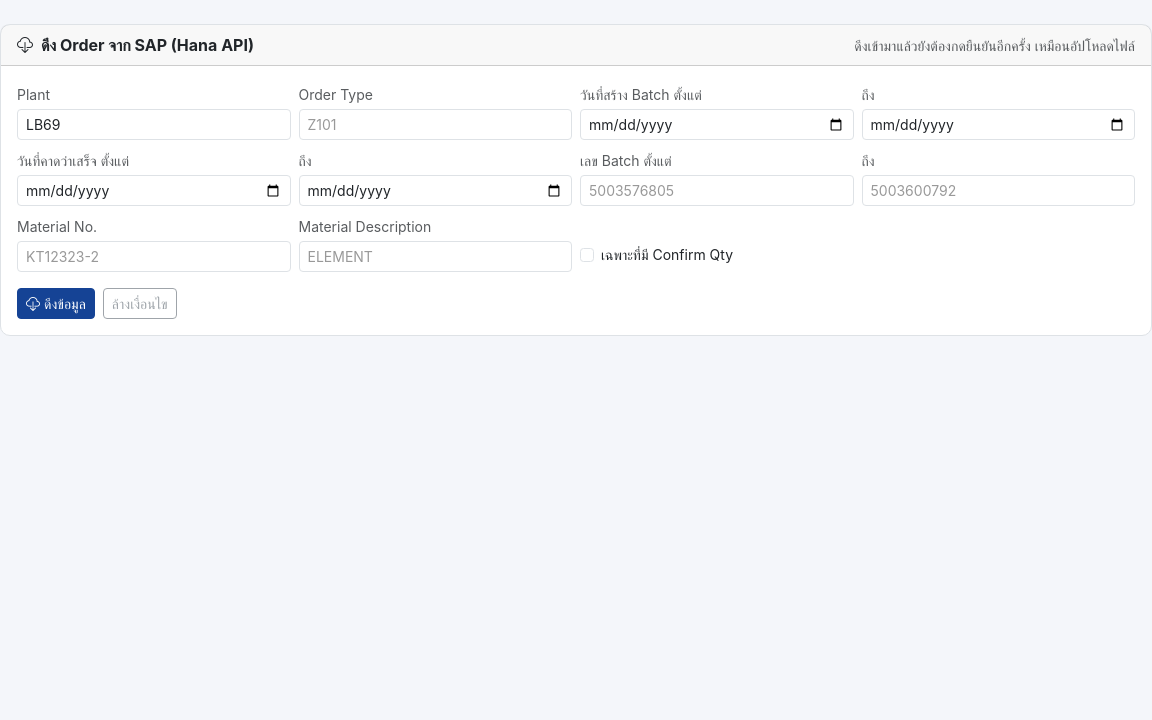
Test: เช็ค order เดิมไม่สำเร็จ → ปิดทั้งปุ่มนำเข้าและอัปเดต
Click the button "ดึงข้อมูล". click: (56, 304)
box: 17,288 -> 95,319
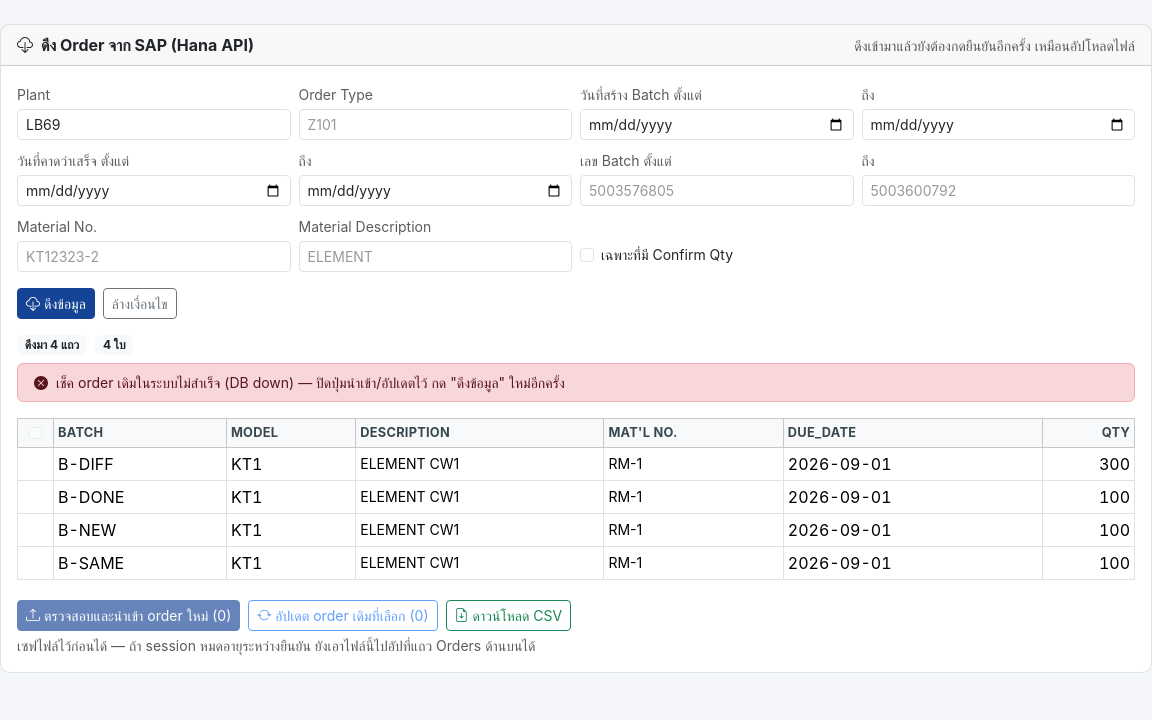
Expected: the text "เช็ค order เดิมในระบบไม่สำเร็จ (DB down)" is shown, 17,363 -> 1135,402
Expected: the button "ตรวจสอบและนำเข้า order ใหม่ (0)" is disabled, 17,600 -> 240,631
Expected: the button "อัปเดต order เดิมที่เลือก (0)" is disabled, 248,600 -> 438,631
